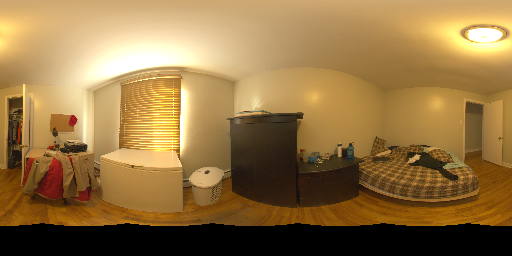light: (447, 18, 512, 50)
non_light: (334, 17, 353, 29)
